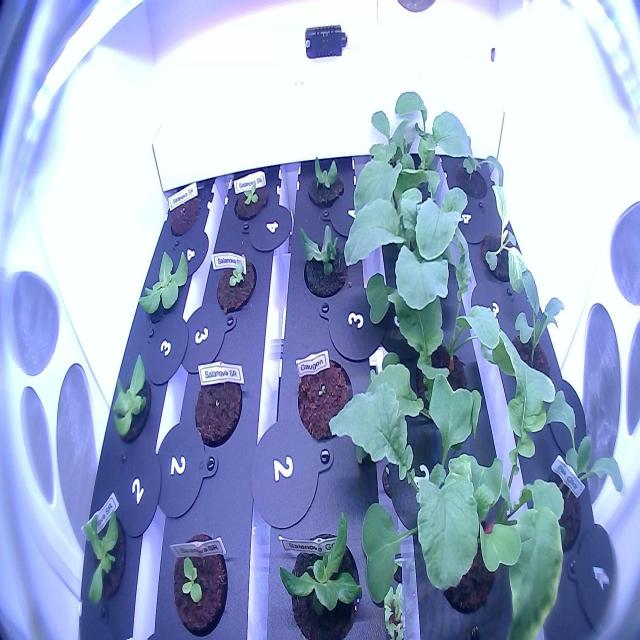germination: (294, 339, 358, 451)
pod: (190, 356, 250, 458), (164, 183, 204, 242)
young: (269, 495, 370, 640), (66, 497, 137, 616), (166, 522, 234, 639), (105, 346, 163, 452), (288, 215, 352, 308), (133, 240, 191, 334), (210, 251, 260, 323), (303, 149, 350, 217), (232, 173, 273, 225)
